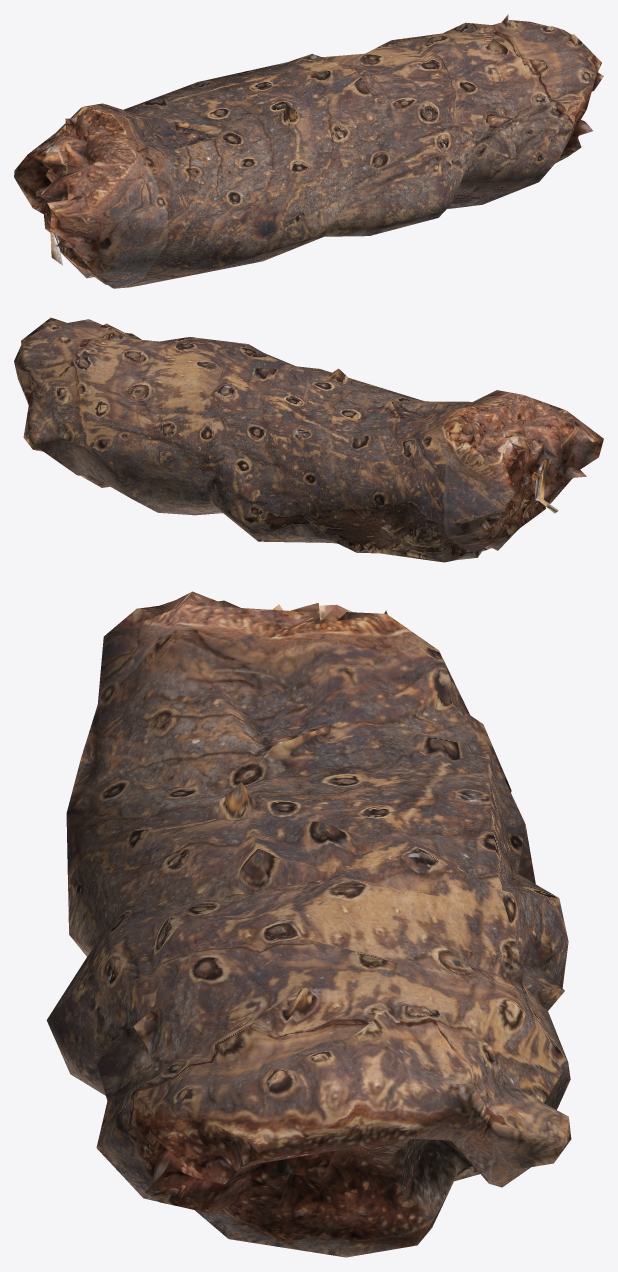
The model's file is Fortune_Telling_Herbs.fbx.
The picture shows the model from 3 angles, top to bottom: view 1: azimuth 30°, elevation 25°; view 2: azimuth 150°, elevation 25°; view 3: azimuth 270°, elevation 25°; orthographic projection. The views are drawn at different scales.
Visible parts, largest first — view 1: Fortune_Telling_Herbs_LOD0; view 2: Fortune_Telling_Herbs_LOD0; view 3: Fortune_Telling_Herbs_LOD0.
Part boxes in pixels (x1,y1,x2,y2): Fortune_Telling_Herbs_LOD0: [14, 14, 603, 288]; Fortune_Telling_Herbs_LOD0: [14, 317, 603, 562]; Fortune_Telling_Herbs_LOD0: [46, 591, 571, 1257].
Size of what is drawn, in the model's own units: 70.46 by 18.97 by 29.75.
1 material, 1 textured.
